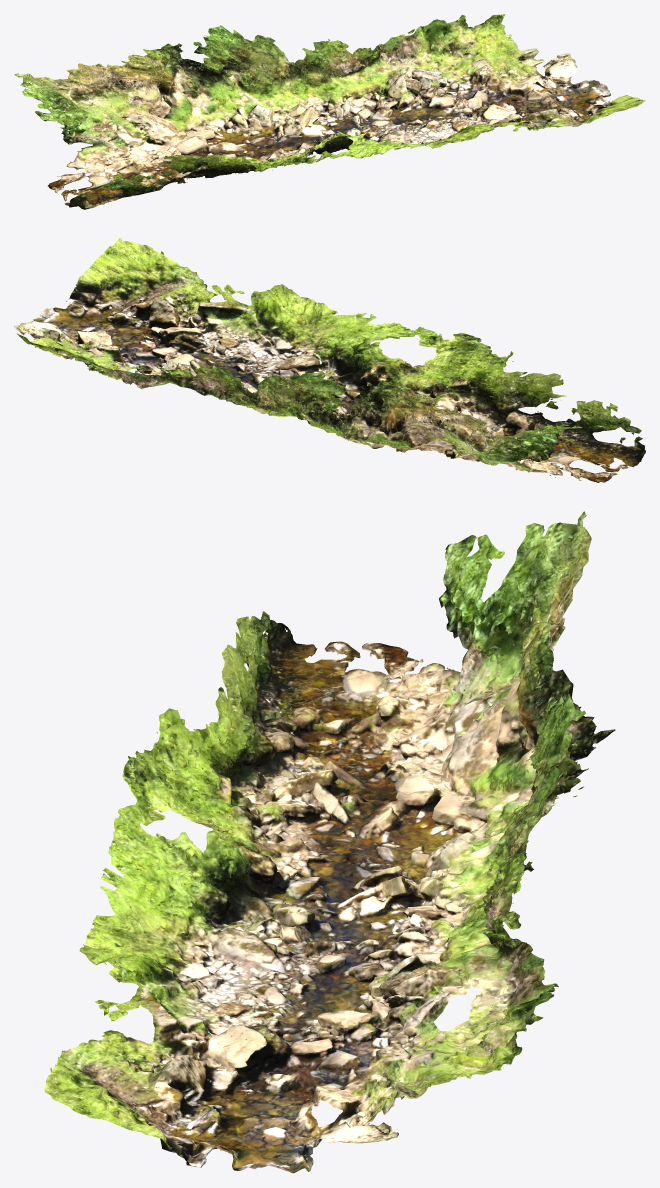
Rendered from stream.glb.
3 renders of one model, top to bottom at view 1: azimuth 30°, elevation 25°; view 2: azimuth 150°, elevation 25°; view 3: azimuth 270°, elevation 25°, orthographic. The views are drawn at different scales.
Parts seen in each view (by area): view 1: Object_2; view 2: Object_2; view 3: Object_2.
Boxes of the visible parts, x1,y1,x2,y2 form: Object_2: [14, 14, 645, 209]; Object_2: [14, 238, 645, 482]; Object_2: [44, 511, 615, 1173].
Bounding box in the file's own units: 70.59 × 10.98 × 32.81.
1 material, 1 textured.
